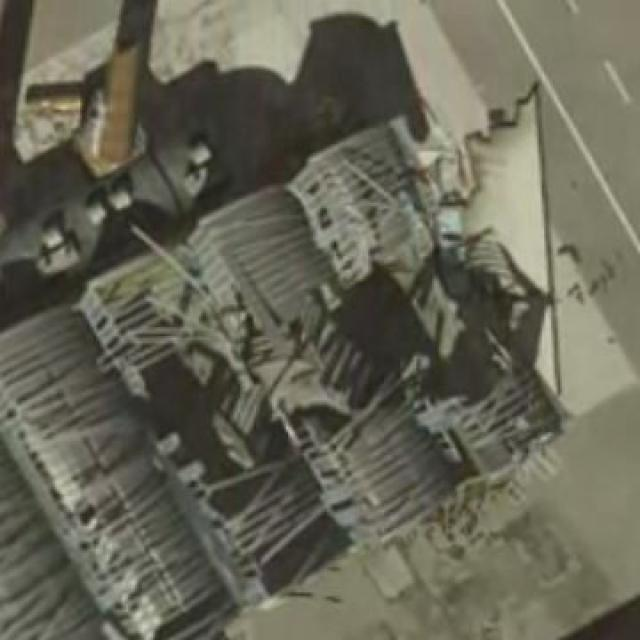collapsed_building: (9, 101, 578, 615)
